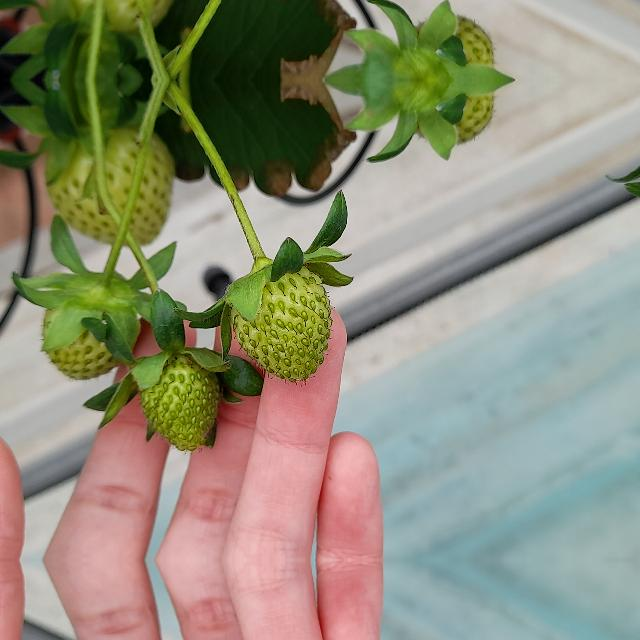Health_25: (39, 129, 178, 249), (230, 257, 332, 381), (30, 264, 136, 376), (130, 354, 230, 446), (38, 0, 177, 31)
